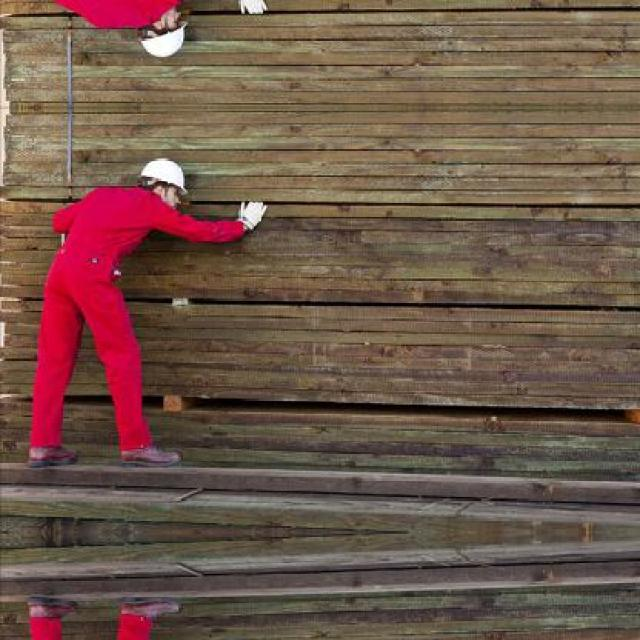helmet: (133, 3, 190, 59), (133, 154, 190, 209)
